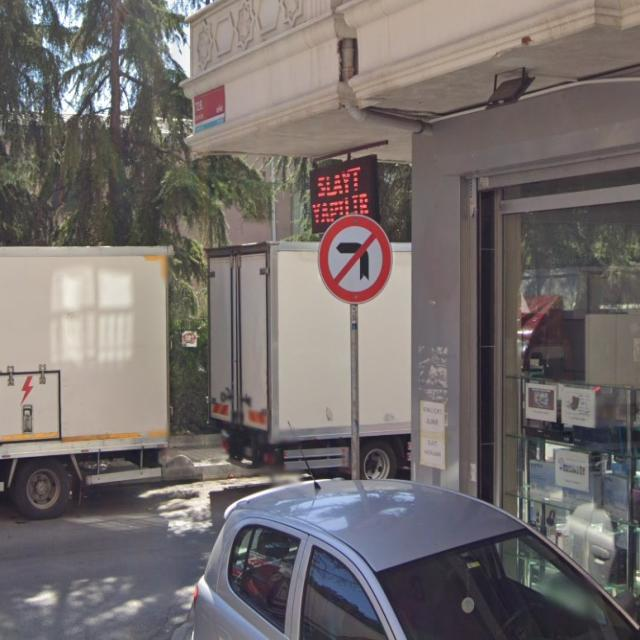soladonulmez: (316, 216, 392, 306)
